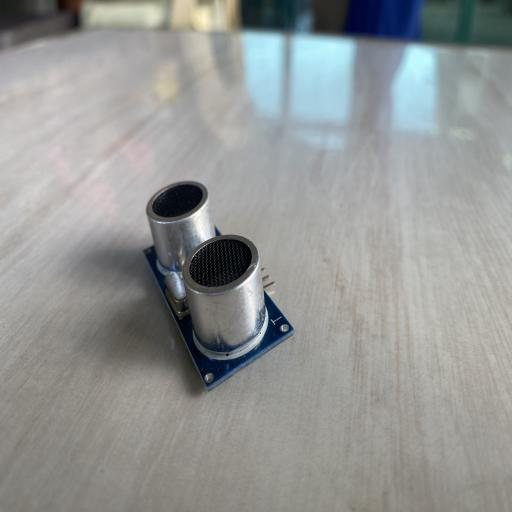Ultrasonic Sensor: (142, 180, 295, 393)
